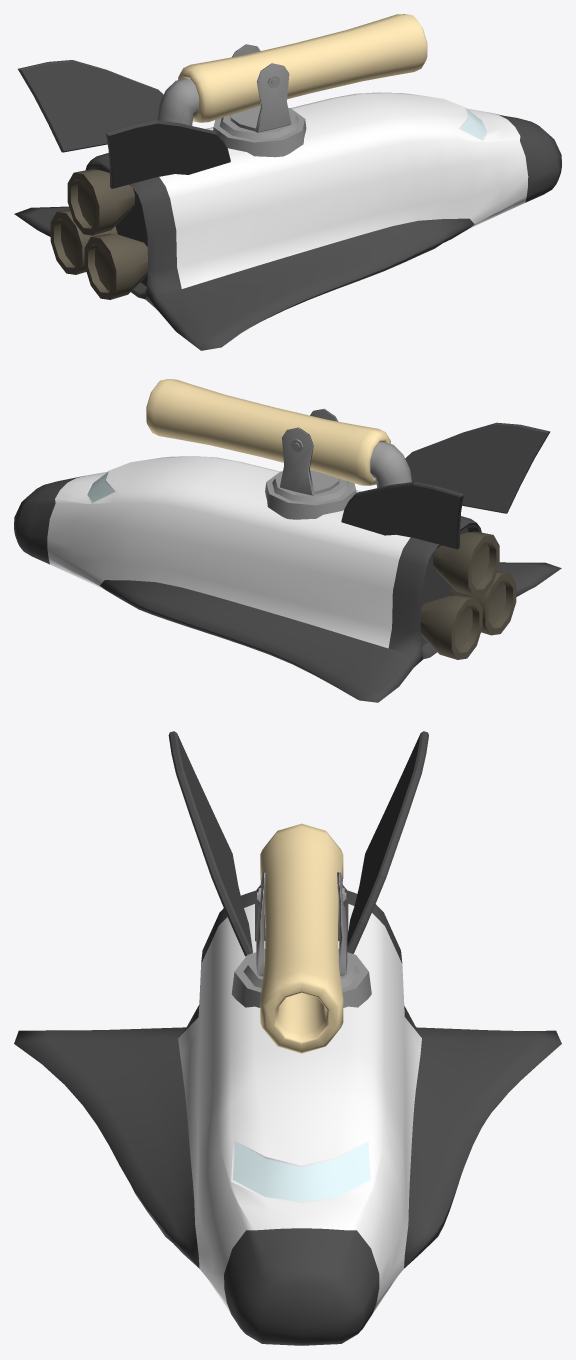
The model's file is chikuwacannon.fbx.
3 views of the same model, one above another, from view 1: azimuth 30°, elevation 25°; view 2: azimuth 150°, elevation 25°; view 3: azimuth 270°, elevation 25° (orthographic). The views are drawn at different scales.
Visible parts, largest first — view 1: spaceship_body, spaceship_wing, spaceship_chikuwa, spaceship_nozzle, spaceship_cannon, spaceship_tube; view 2: spaceship_body, spaceship_wing, spaceship_chikuwa, spaceship_nozzle, spaceship_cannon, spaceship_tube; view 3: spaceship_body, spaceship_chikuwa, spaceship_wing, spaceship_cannon.
Part boxes in pixels (bbox=[...]): spaceship_body: bbox=[14, 92, 561, 350]; spaceship_wing: bbox=[18, 60, 230, 188]; spaceship_chikuwa: bbox=[178, 14, 427, 122]; spaceship_nozzle: bbox=[50, 169, 147, 299]; spaceship_cannon: bbox=[213, 44, 306, 157]; spaceship_tube: bbox=[156, 78, 199, 125]; spaceship_body: bbox=[14, 456, 561, 702]; spaceship_wing: bbox=[341, 422, 550, 549]; spaceship_chikuwa: bbox=[146, 379, 390, 485]; spaceship_nozzle: bbox=[420, 531, 516, 659]; spaceship_cannon: bbox=[265, 408, 356, 519]; spaceship_tube: bbox=[370, 442, 411, 487]; spaceship_body: bbox=[14, 890, 561, 1345]; spaceship_chikuwa: bbox=[260, 823, 343, 1053]; spaceship_wing: bbox=[168, 731, 428, 956]; spaceship_cannon: bbox=[231, 872, 371, 1007].
Size of the model in its own units: 107 by 41.34 by 72.34.
